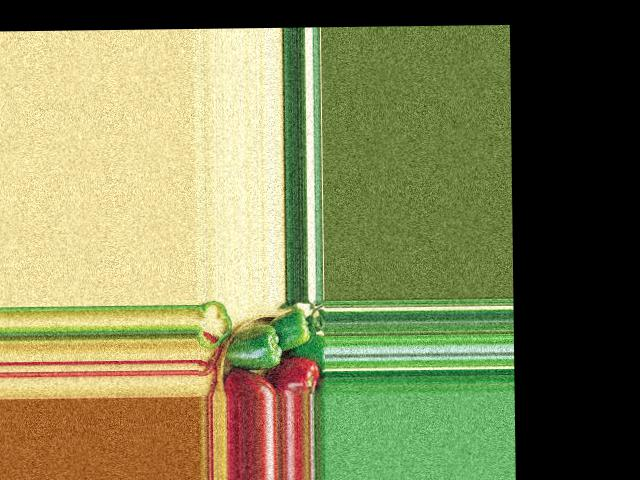bell_pepper: (223, 371, 277, 395)
